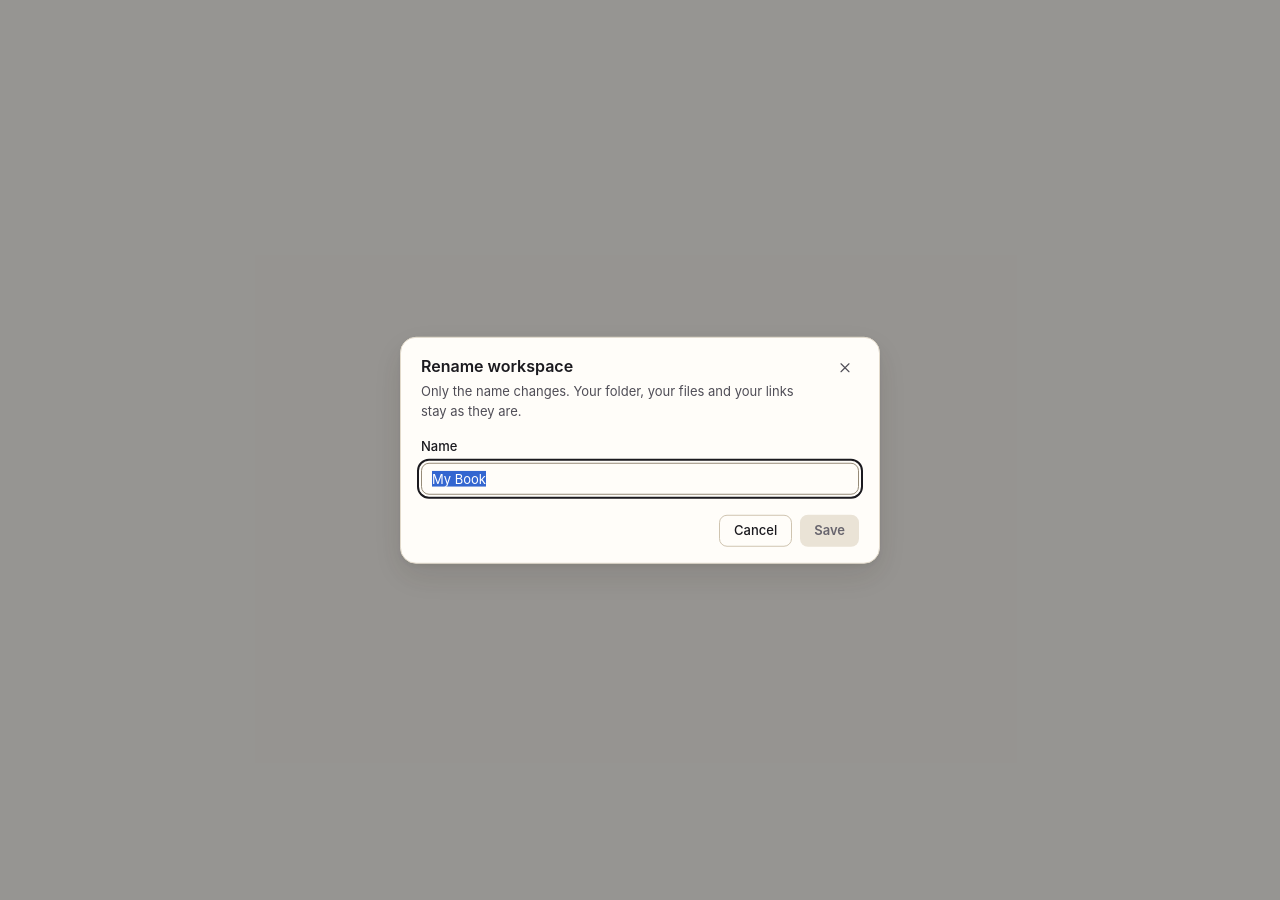
Test: the Rename workspace dialog › says why in plain words when the workspace cannot be changed, and closes nothing
This screenshot has width=1280, height=900.
Replace the text in the field labelled "Name" with "Other" at (640, 478), box [421,462,859,494]
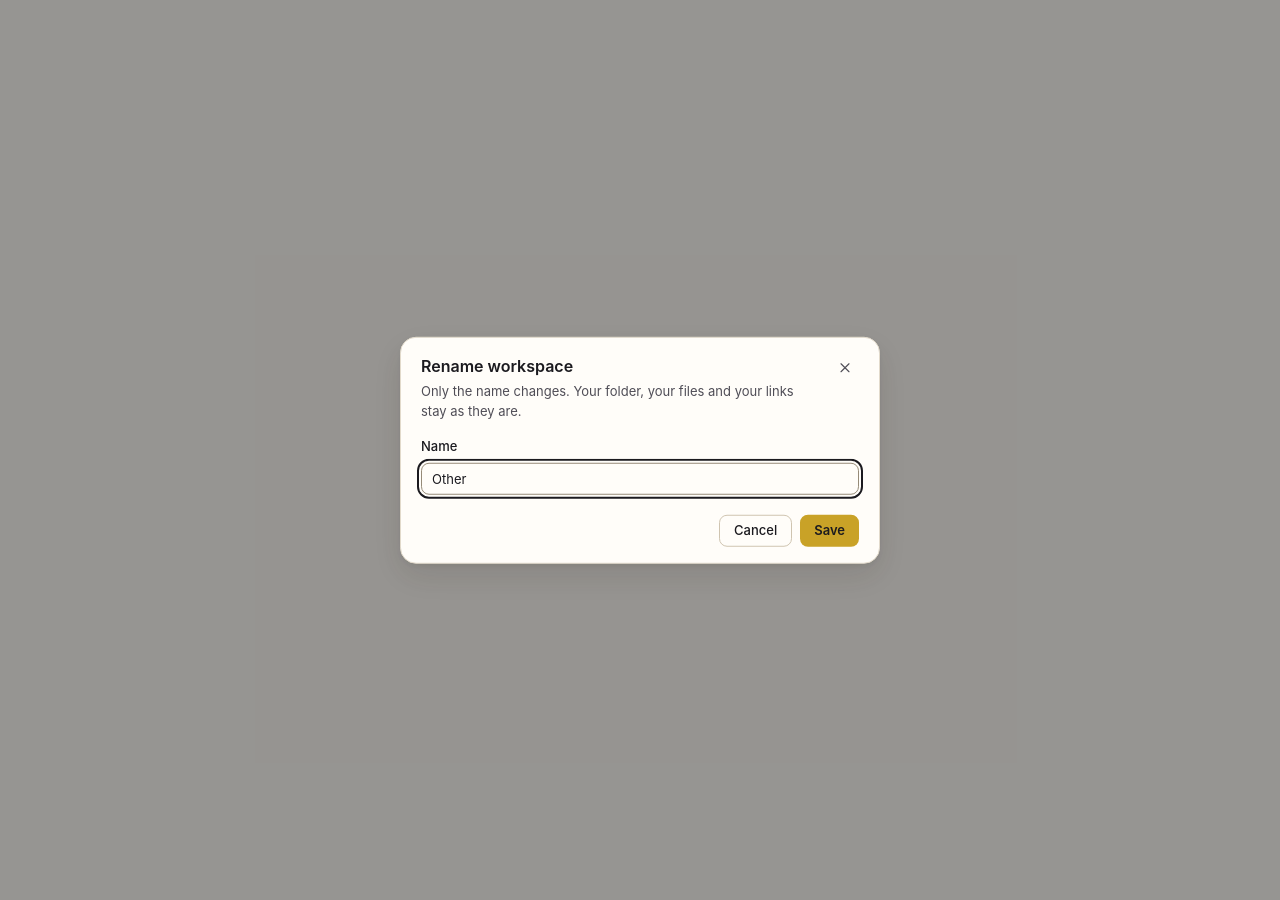
Submit the form, box [421,437,859,494]
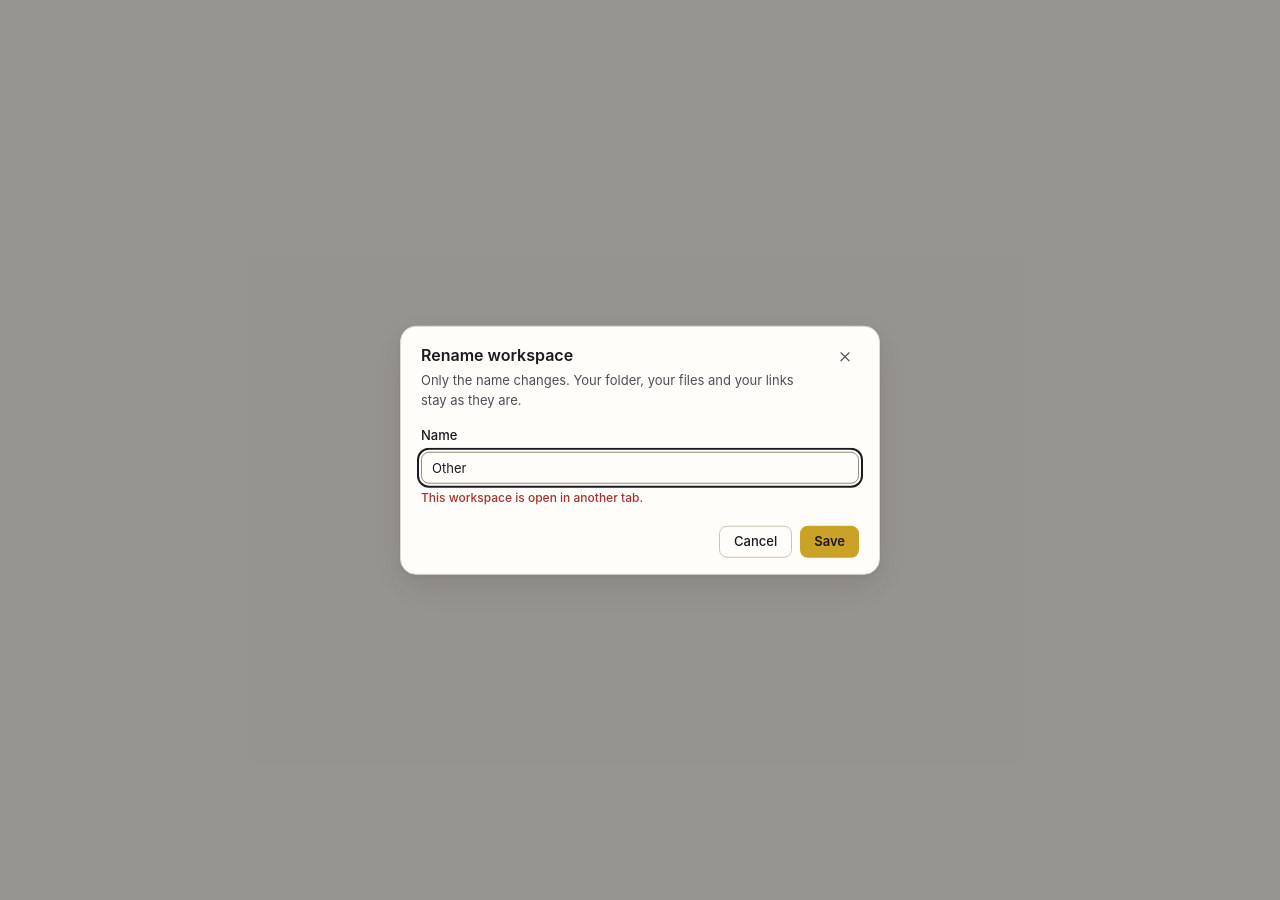
Check: the dialog shows "another tab", box [421,489,643,504]
